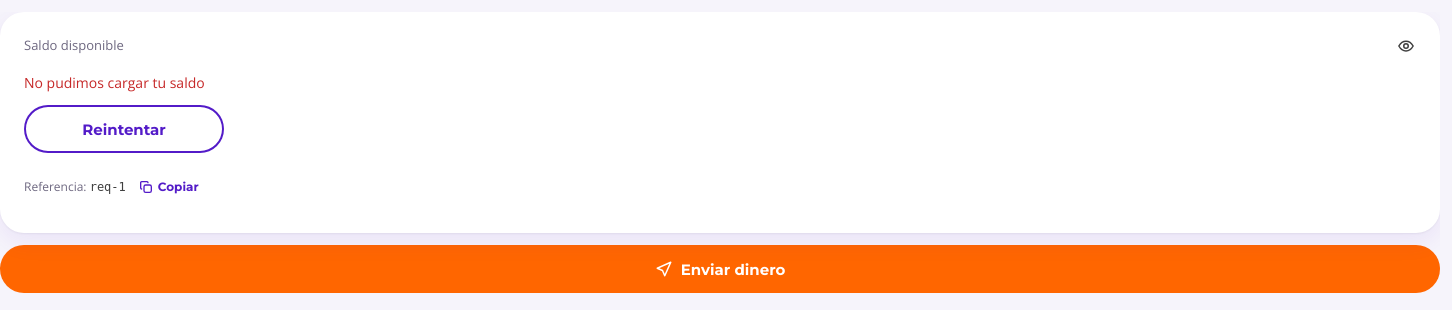
it: BalanceCard › shows the error with Reintentar and the reference on a 503, and retrying refetches
expect the message shows "No pudimos cargar tu saldo": met, box [24,73,205,92]
expect the message shows "Referencia: req-1": met, box [24,73,224,209]
Click the button "Reintentar". click: click(124, 129)
box: [24,105,224,153]
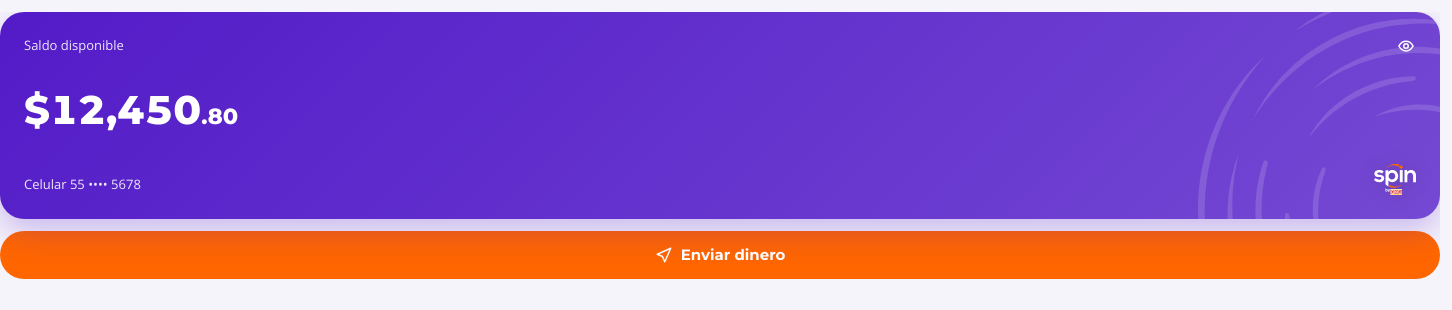
expect the text "$12,450" is shown: met, box [24,85,201,134]
